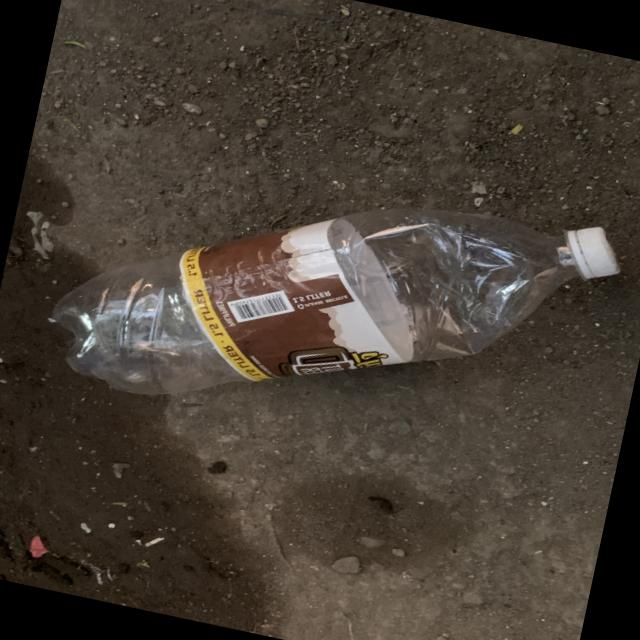Bottle: (52, 209, 619, 394)
